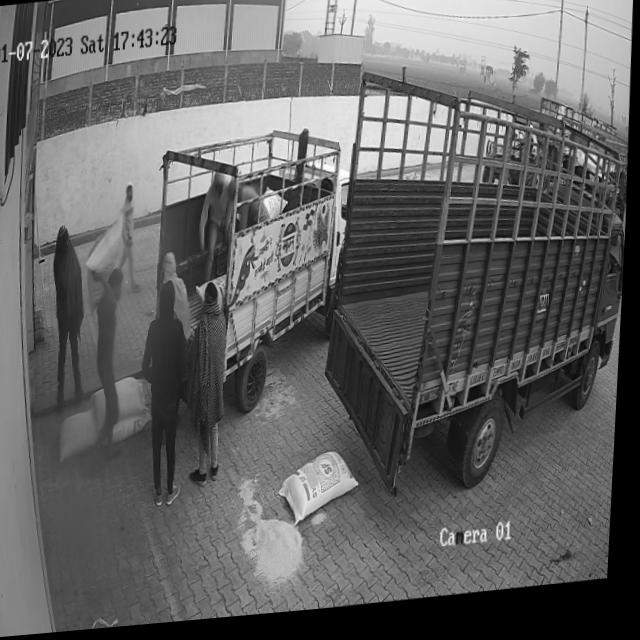sack: (282, 456, 365, 532), (92, 378, 152, 427), (85, 214, 130, 279), (61, 411, 102, 462), (115, 418, 152, 445)
